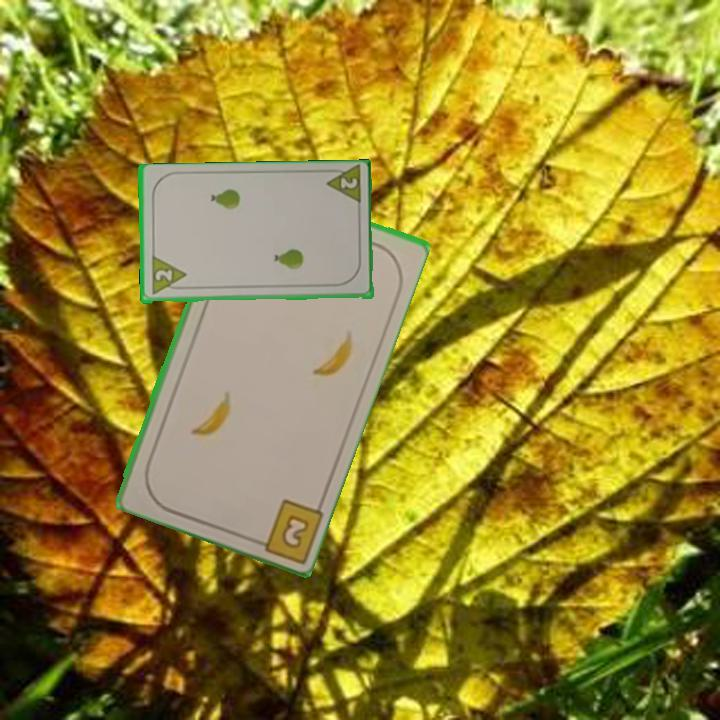2b: (245, 494, 325, 563)
2p: (321, 164, 364, 209), (148, 254, 189, 298)
